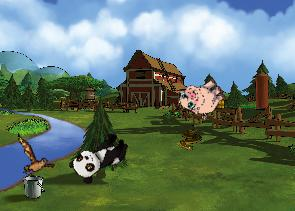eagle: (4, 133, 61, 184)
panda: (66, 126, 133, 187)
pig: (174, 69, 230, 124)
